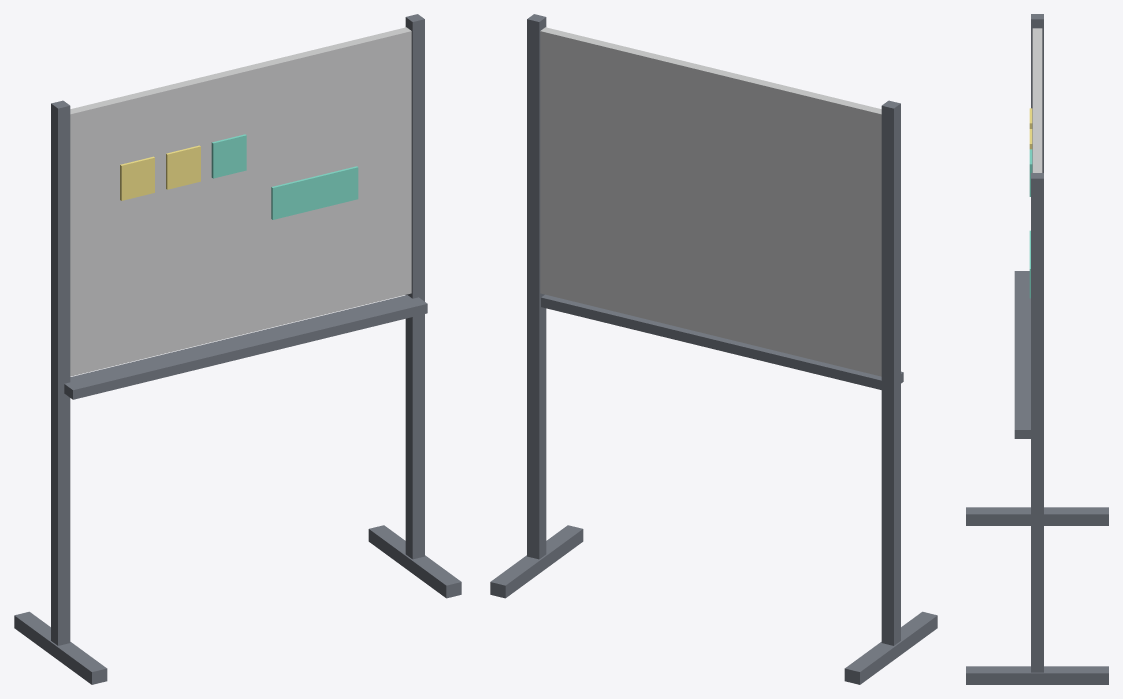
The model's file is furniture_whiteboard.glb.
3 views of the same model, side by side, from view 1: azimuth 30°, elevation 25°; view 2: azimuth 150°, elevation 25°; view 3: azimuth 270°, elevation 25° (orthographic). The views are drawn at different scales.
Parts seen in each view (by area): view 1: Whiteboard; view 2: Whiteboard; view 3: Whiteboard.
Boxes of the visible parts, left/top/right/bottom form: Whiteboard: left=14, top=14, right=461, bottom=684; Whiteboard: left=490, top=14, right=937, bottom=684; Whiteboard: left=966, top=14, right=1108, bottom=684.
Bounding box in the file's own units: 1.21 × 1.72 × 0.44.
